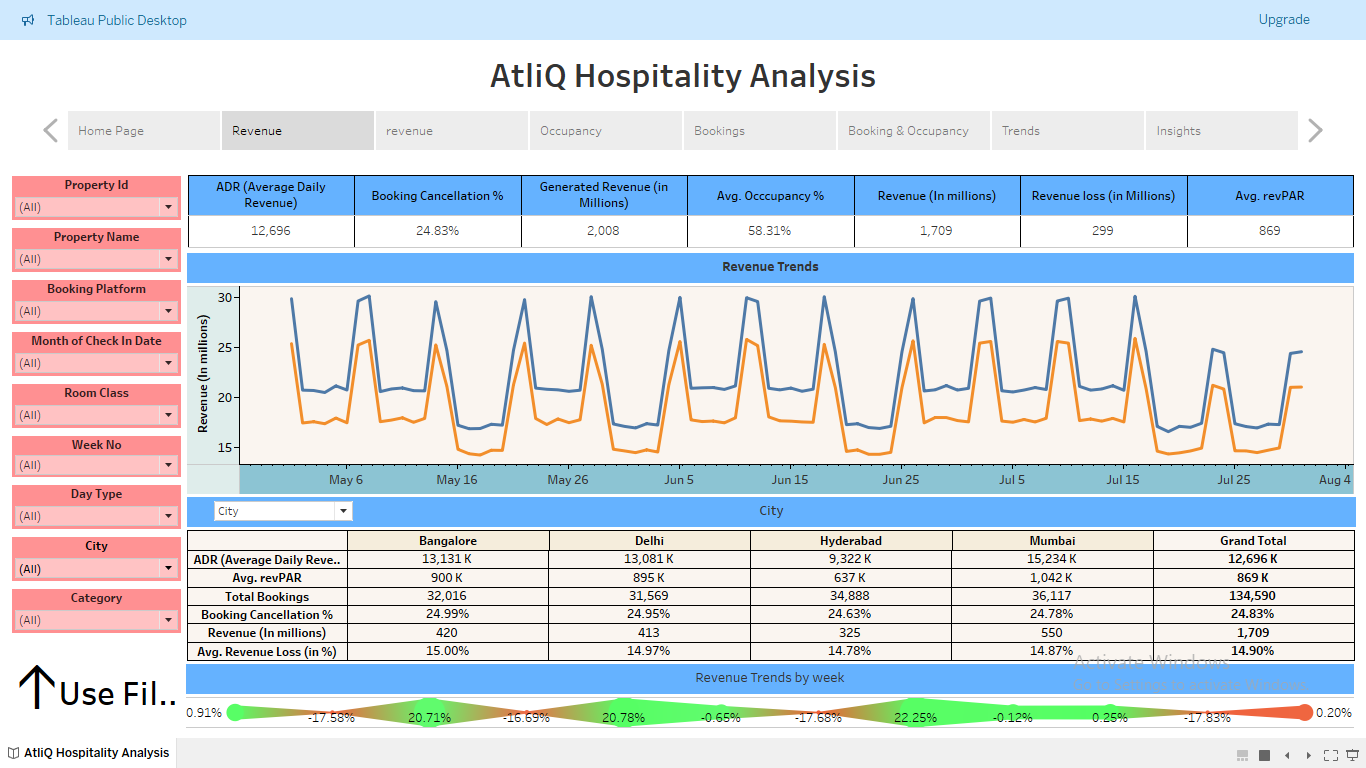

Layout of this report page (visuals, bound fields, positions):
{"tool":"tableau","page":{"name":"Revenure Dashboard","canvas":[1000,1000],"units":"permille","ordinal":5},"visuals":[{"type":"filter","title":"Revenue KPIs ","param":"[federated.0dyipxl0d44t2k19o4wil0eqguqx].[none:property_id:ok]","box":[0,3.6,131.1,94.2]},{"type":"worksheet","title":"Revenue KPIs ","mark":"Automatic","box":[133.3,9.1,863.7,130.4]},{"type":"filter","title":"Revenue KPIs ","param":"[federated.0dyipxl0d44t2k19o4wil0eqguqx].[none:property_name:nk]","box":[0,97.8,131.1,94.2]},{"type":"worksheet","title":"Revenue Trends","mark":"Automatic","rows":["Calculation_1197394568631709697","Calculation_1197394568632344578"],"cols":["check_in_date"],"box":[132.9,148.6,864.3,433]},{"type":"filter","title":"Revenue KPIs ","param":"[federated.0dyipxl0d44t2k19o4wil0eqguqx].[none:booking_platform:nk]","box":[0,192,131.1,94.2]},{"type":"filter","title":"Revenue KPIs ","param":"[federated.0dyipxl0d44t2k19o4wil0eqguqx].[mn:check_in_date:ok]","box":[0,286.2,131.1,94.2]},{"type":"filter","title":"Revenue KPIs ","param":"[federated.0dyipxl0d44t2k19o4wil0eqguqx].[none:room_class:nk]","box":[0,380.4,131.1,94.2]},{"type":"filter","title":"Revenue KPIs ","param":"[federated.0dyipxl0d44t2k19o4wil0eqguqx].[none:week no:nk]","box":[0,474.6,131.1,88.8]},{"type":"filter","title":"Revenue KPIs ","param":"[federated.0dyipxl0d44t2k19o4wil0eqguqx].[none:day_type:nk]","box":[0,563.4,131.1,94.2]},{"type":"worksheet","title":"Revenue by","mark":"Automatic","cols":["Calculation_780811602311200769"],"box":[132.9,583.3,866.2,293.5]},{"type":"parameter","param":"[Parameters].[Parameter 2]","box":[150.3,585.1,107.2,47.1]},{"type":"filter","title":"Revenue Trends","param":"[federated.0dyipxl0d44t2k19o4wil0eqguqx].[none:city:nk]","box":[0,657.6,131.1,94.2]},{"type":"filter","title":"Revenue KPIs ","param":"[federated.0dyipxl0d44t2k19o4wil0eqguqx].[none:category:nk]","box":[0,751.8,131.1,94.2]},{"type":"worksheet","title":"Revenue Trends by week","mark":"Line","cols":["week no"],"box":[132,882.2,865.3,114.1]}]}

Visuals, with their boxes on the dashboard's canvas, which has no fixed pixel size, in thousandths of its width and height (x1, y1, x2, y2). These are canvas units, not pixel positions in the 1366x768 screenshot, which may show the page scaled, cropped or inside an application window:
"Revenue KPIs " filter: 0:4:131:98
"Revenue KPIs " worksheet: 133:9:997:140
"Revenue KPIs " filter: 0:98:131:192
"Revenue Trends" worksheet: 133:149:997:582
"Revenue KPIs " filter: 0:192:131:286
"Revenue KPIs " filter: 0:286:131:380
"Revenue KPIs " filter: 0:380:131:475
"Revenue KPIs " filter: 0:475:131:563
"Revenue KPIs " filter: 0:563:131:658
"Revenue by" worksheet: 133:583:999:877
parameter: 150:585:258:632
"Revenue Trends" filter: 0:658:131:752
"Revenue KPIs " filter: 0:752:131:846
"Revenue Trends by week" worksheet (Line marks): 132:882:997:996
